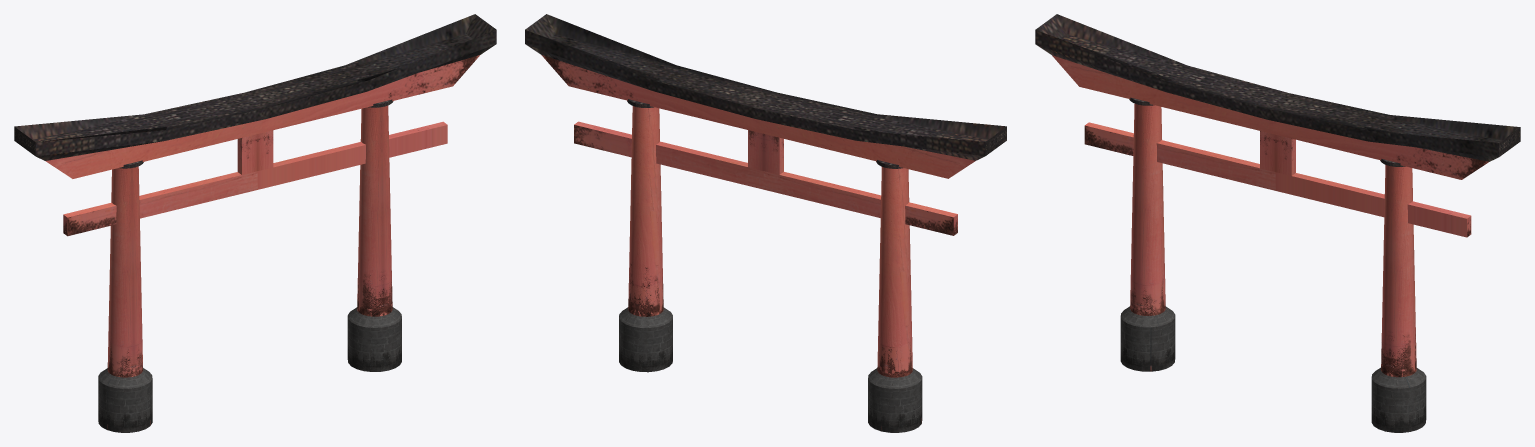
File: ToriiGate.fbx
The picture shows the model from 3 angles, left to right: view 1: azimuth 30°, elevation 25°; view 2: azimuth 150°, elevation 25°; view 3: azimuth 330°, elevation 25°; orthographic projection.
Parts seen in each view (by area): view 1: ToriiGate; view 2: ToriiGate; view 3: ToriiGate.
Boxes of the visible parts, box(x1,y1,x2,y2) form: ToriiGate: box(14, 14, 496, 432); ToriiGate: box(525, 14, 1006, 432); ToriiGate: box(1035, 14, 1520, 432).
Bounding box in the file's own units: 593 × 383 × 60.78.
